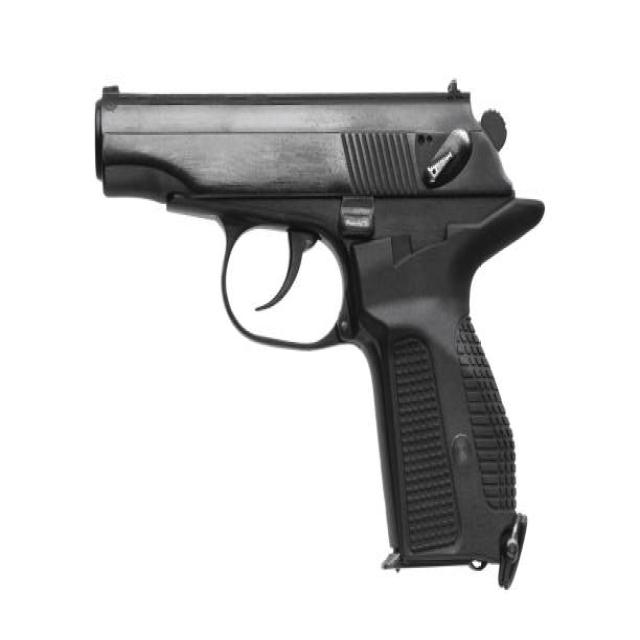pistol: (81, 71, 549, 600)
